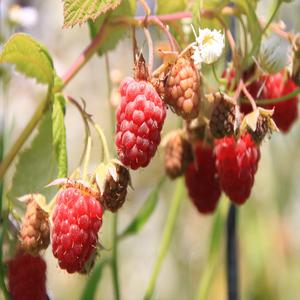raspb: (46, 52, 255, 265)
